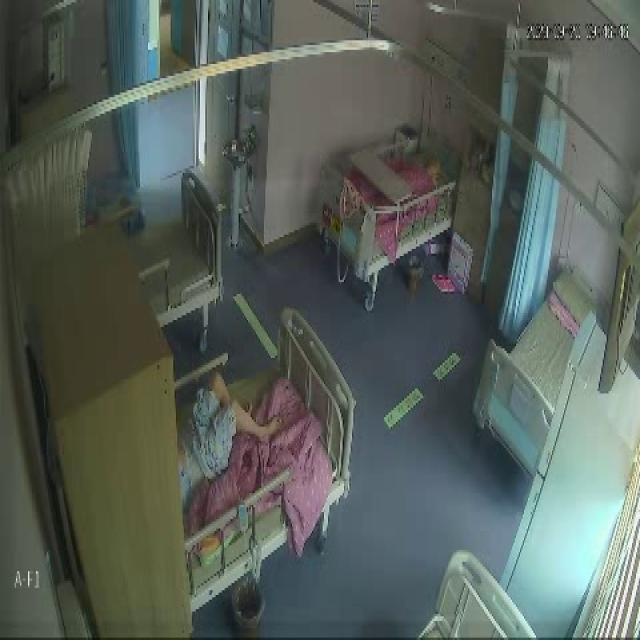bed: (174, 315, 350, 580), (472, 259, 590, 452), (315, 118, 458, 269), (130, 168, 224, 324)
lie: (175, 370, 283, 496)
patient: (174, 367, 282, 497), (413, 148, 443, 186)
